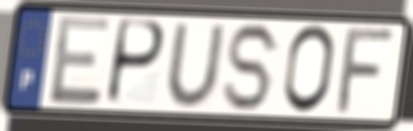E: (47, 12, 113, 108)
F: (332, 27, 400, 117)
O: (280, 22, 338, 117)
P: (102, 16, 168, 109)
S: (221, 20, 284, 114)
U: (164, 22, 228, 110)
